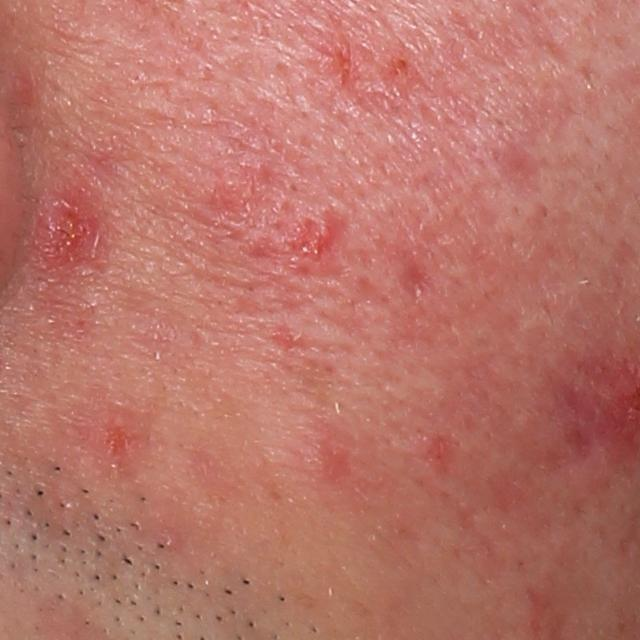atrophic_scar: (490, 140, 549, 203), (396, 257, 443, 309)
papule: (31, 194, 99, 272), (88, 403, 137, 469), (296, 433, 350, 487), (300, 213, 339, 262)
